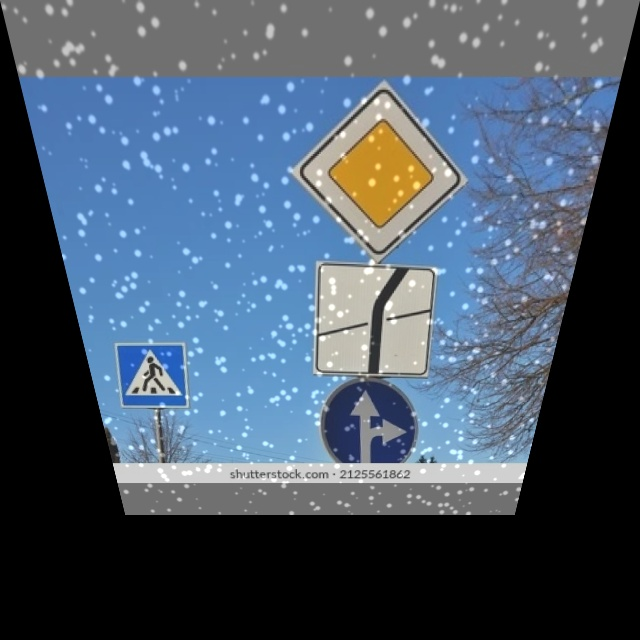Compulsory_Ahead_or_Turn_Right: (323, 381, 423, 462)
